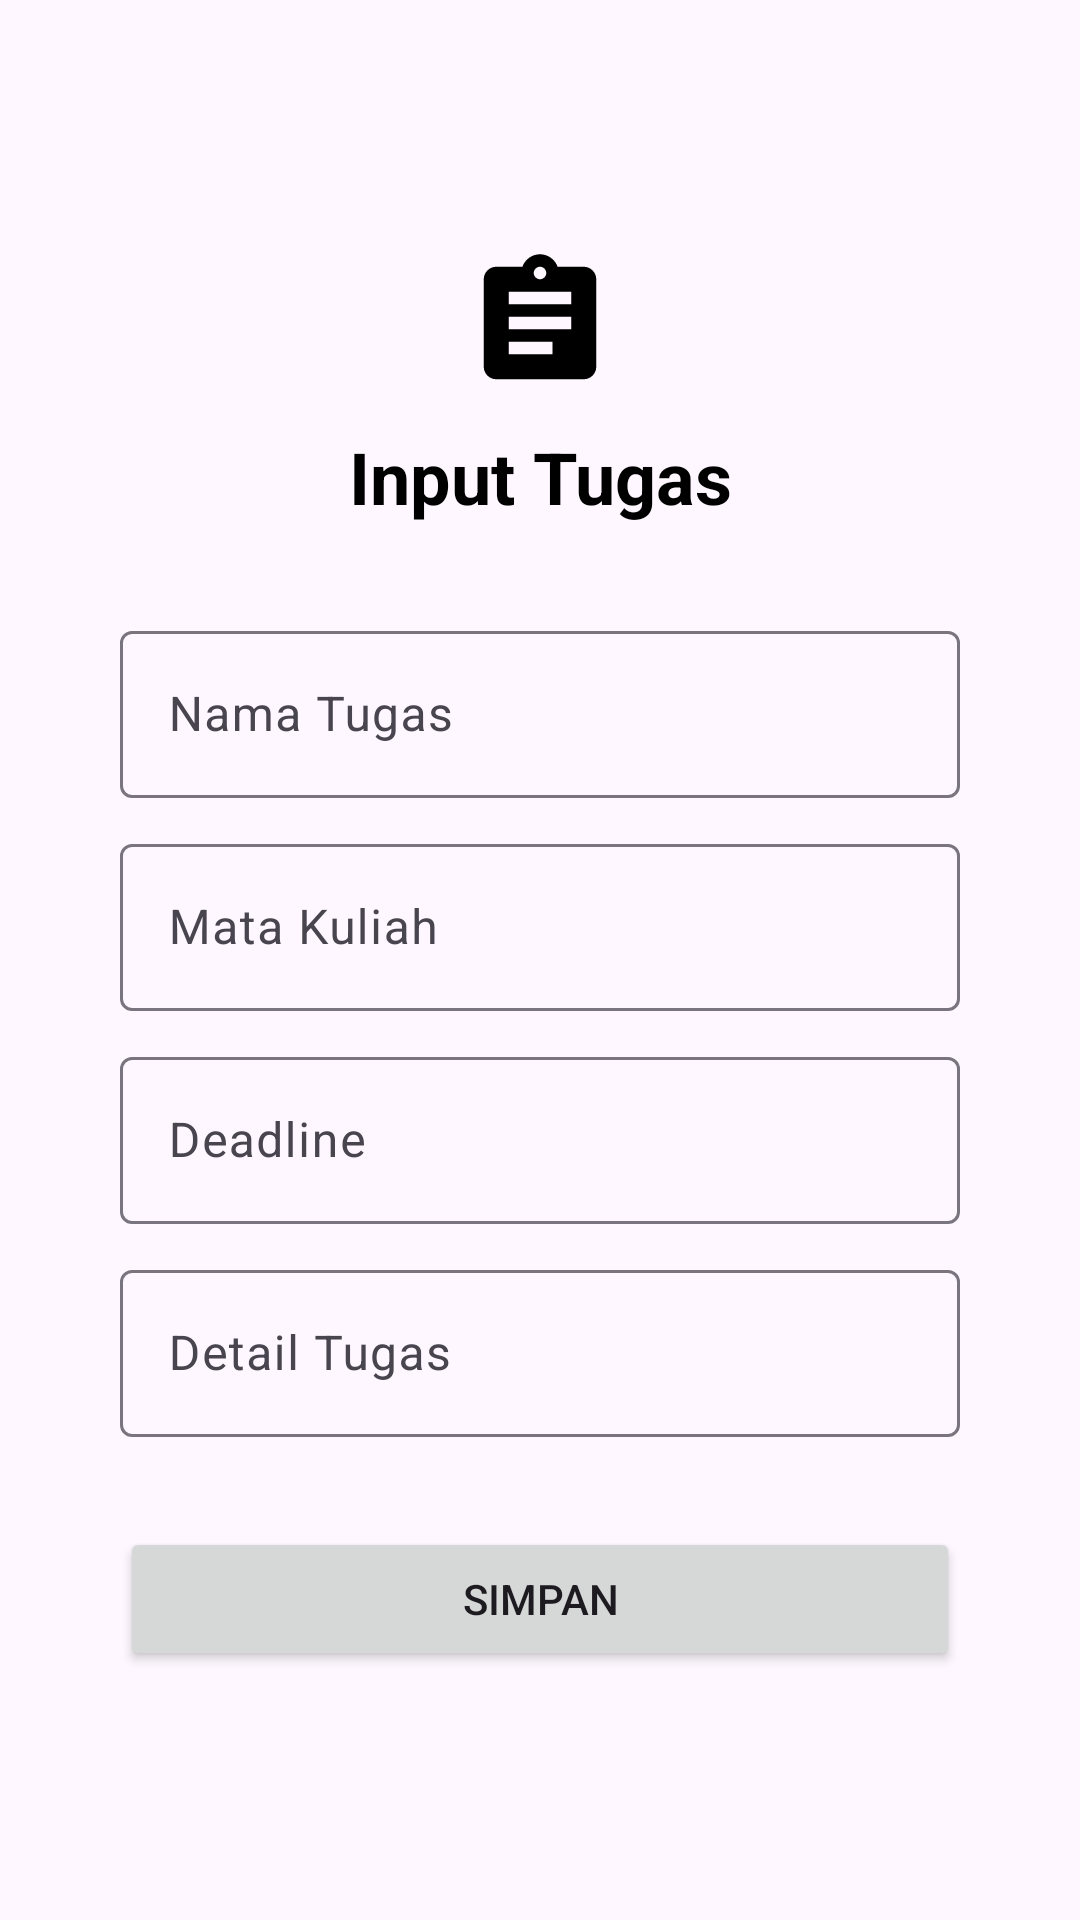

Icon click points for this 1080px×1920px phone screenshot, format (x,y):
assignment: (540,317)
